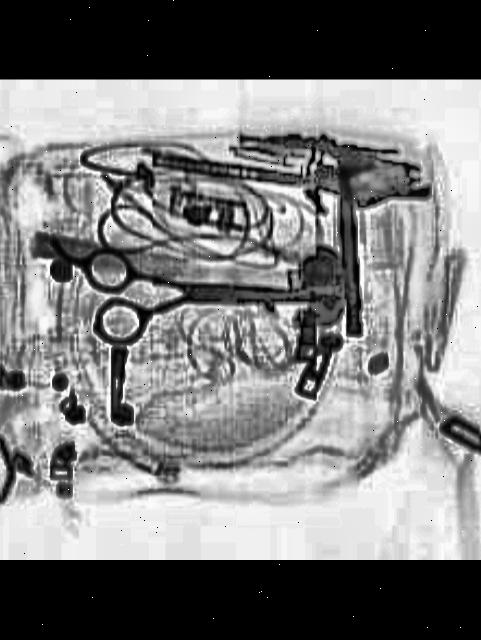Scissors: (79, 253, 312, 348)
